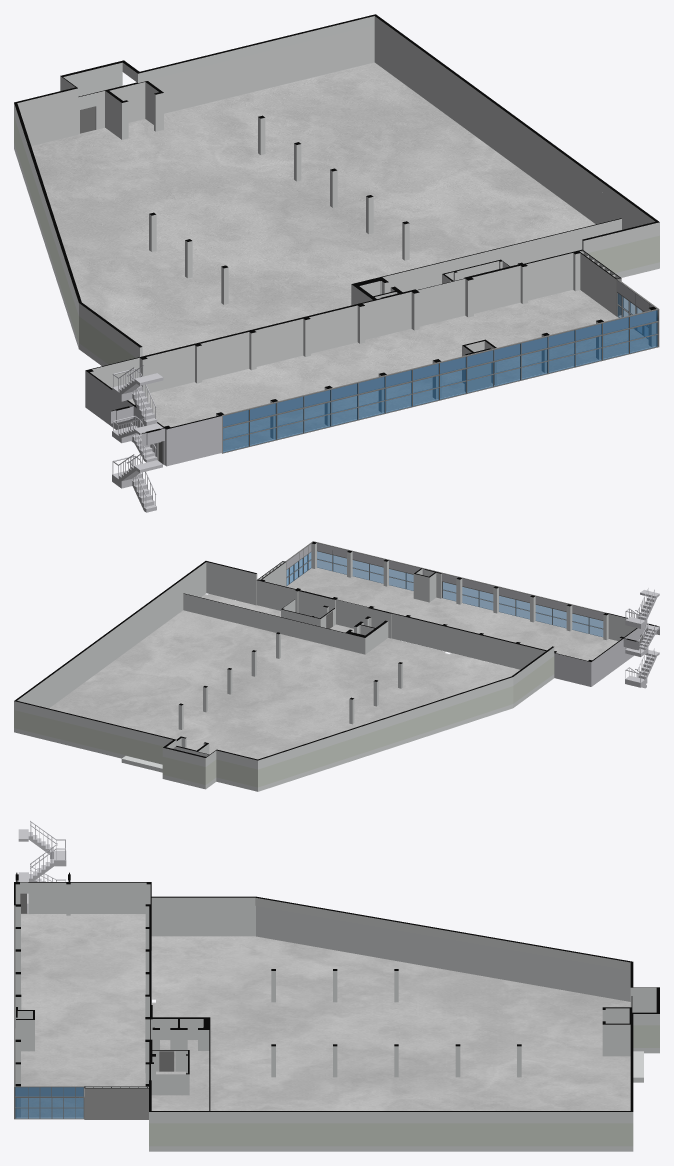
The model's file is H1_2F_PIT.glb.
3 renders of one model, top to bottom at view 1: azimuth 30°, elevation 25°; view 2: azimuth 150°, elevation 25°; view 3: azimuth 270°, elevation 25°, orthographic. The views are drawn at different scales.
Visible parts, largest first — view 1: H1_2F_PIT_바닥001, H1_2F_PIT_벽001, H1_2F_PIT_창문001, H1_4F외부계단, H1_2F 외부계단, H1_3F외부계단; view 2: H1_2F_PIT_바닥001, H1_2F_PIT_벽001, H1_2F_PIT_창문001, H1_4F외부계단, H1_2F 외부계단, H1_3F외부계단; view 3: H1_2F_PIT_바닥001, H1_2F_PIT_벽001, H1_2F_PIT_창문001, H1_4F외부계단, H1_2F_PIT_방화문001.
Part boxes in pixels (x1,y1,x2,y2): H1_2F_PIT_바닥001: (31,62,650,450); H1_2F_PIT_벽001: (14,14,659,466); H1_2F_PIT_창문001: (222,279,659,453); H1_4F외부계단: (112,365,163,425); H1_2F 외부계단: (112,452,162,512); H1_3F외부계단: (112,416,163,462); H1_2F_PIT_바닥001: (49,567,618,759); H1_2F_PIT_벽001: (14,542,659,791); H1_2F_PIT_창문001: (285,541,607,637); H1_4F외부계단: (625,588,659,628); H1_2F 외부계단: (625,647,659,688); H1_3F외부계단: (625,624,659,656); H1_2F_PIT_바닥001: (15,913,630,1117); H1_2F_PIT_벽001: (14,872,659,1151); H1_2F_PIT_창문001: (14,905,84,1119); H1_4F외부계단: (18,820,66,881); H1_2F_PIT_방화문001: (20,893,174,1071).
Bounding box in the file's own units: 65.92 × 15.66 × 72.58.
Materials: 10 (1 with a texture image).
